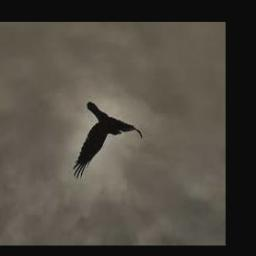Crow: (74, 102, 143, 179)
